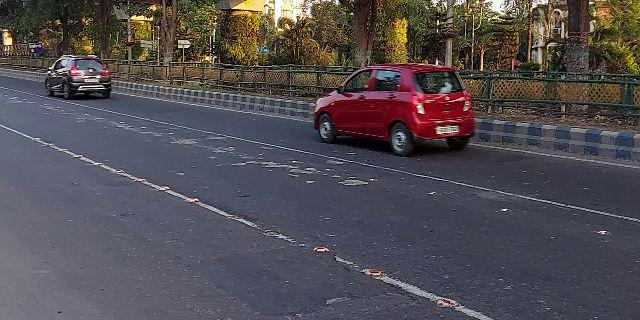Car: (311, 63, 476, 156), (42, 52, 112, 103)
